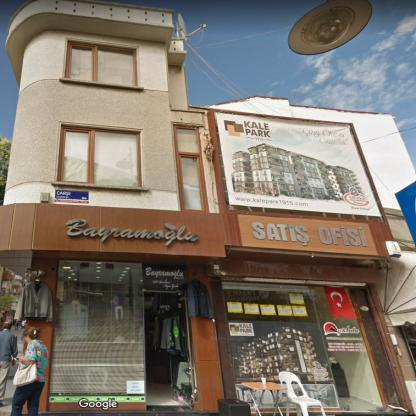door: (308, 286, 384, 409)
window: (49, 261, 144, 402), (57, 126, 140, 187), (63, 41, 137, 87), (173, 126, 208, 212)
